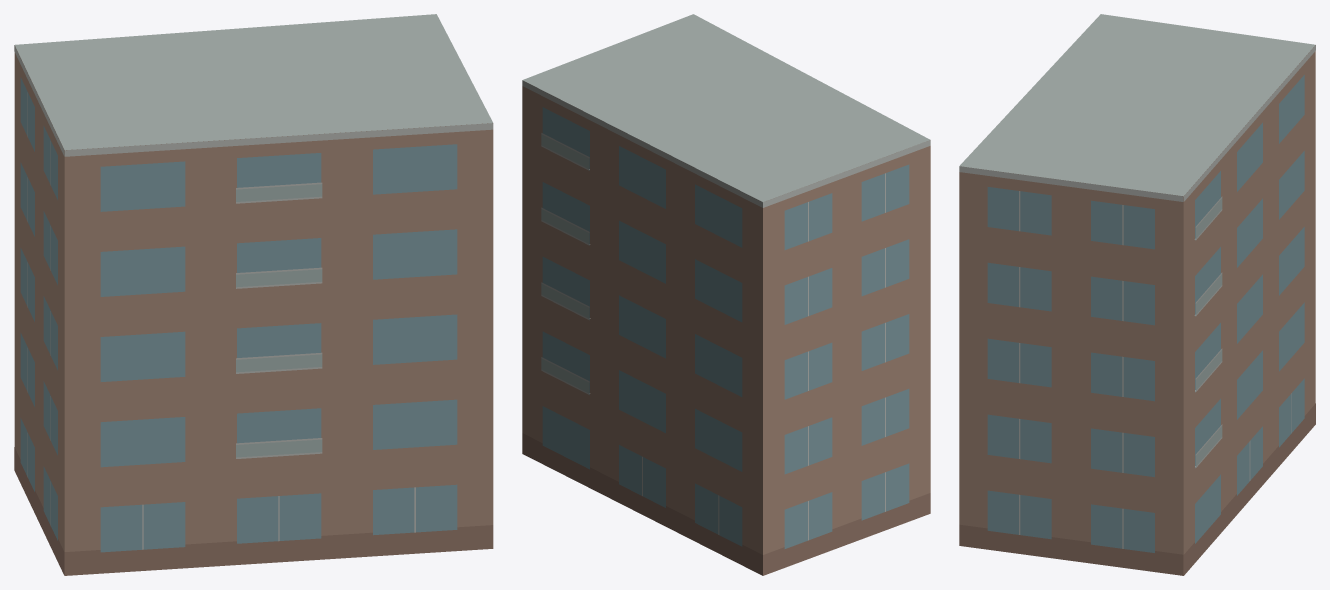
The model's file is survey-upis-32989212.glb.
3 views of the same model, side by side, from view 1: azimuth 30°, elevation 25°; view 2: azimuth 150°, elevation 25°; view 3: azimuth 270°, elevation 25° (orthographic). The views are drawn at different scales.
Visible parts, largest first — view 1: survey-upis-32989212.tmp; view 2: survey-upis-32989212.tmp; view 3: survey-upis-32989212.tmp.
Part boxes in pixels (x1=…): survey-upis-32989212.tmp: x1=14, y1=14, x2=493, y2=575; survey-upis-32989212.tmp: x1=522, y1=14, x2=930, y2=575; survey-upis-32989212.tmp: x1=959, y1=14, x2=1315, y2=575.
Size of the model in its own units: 16.17 by 15.7 by 13.37.
